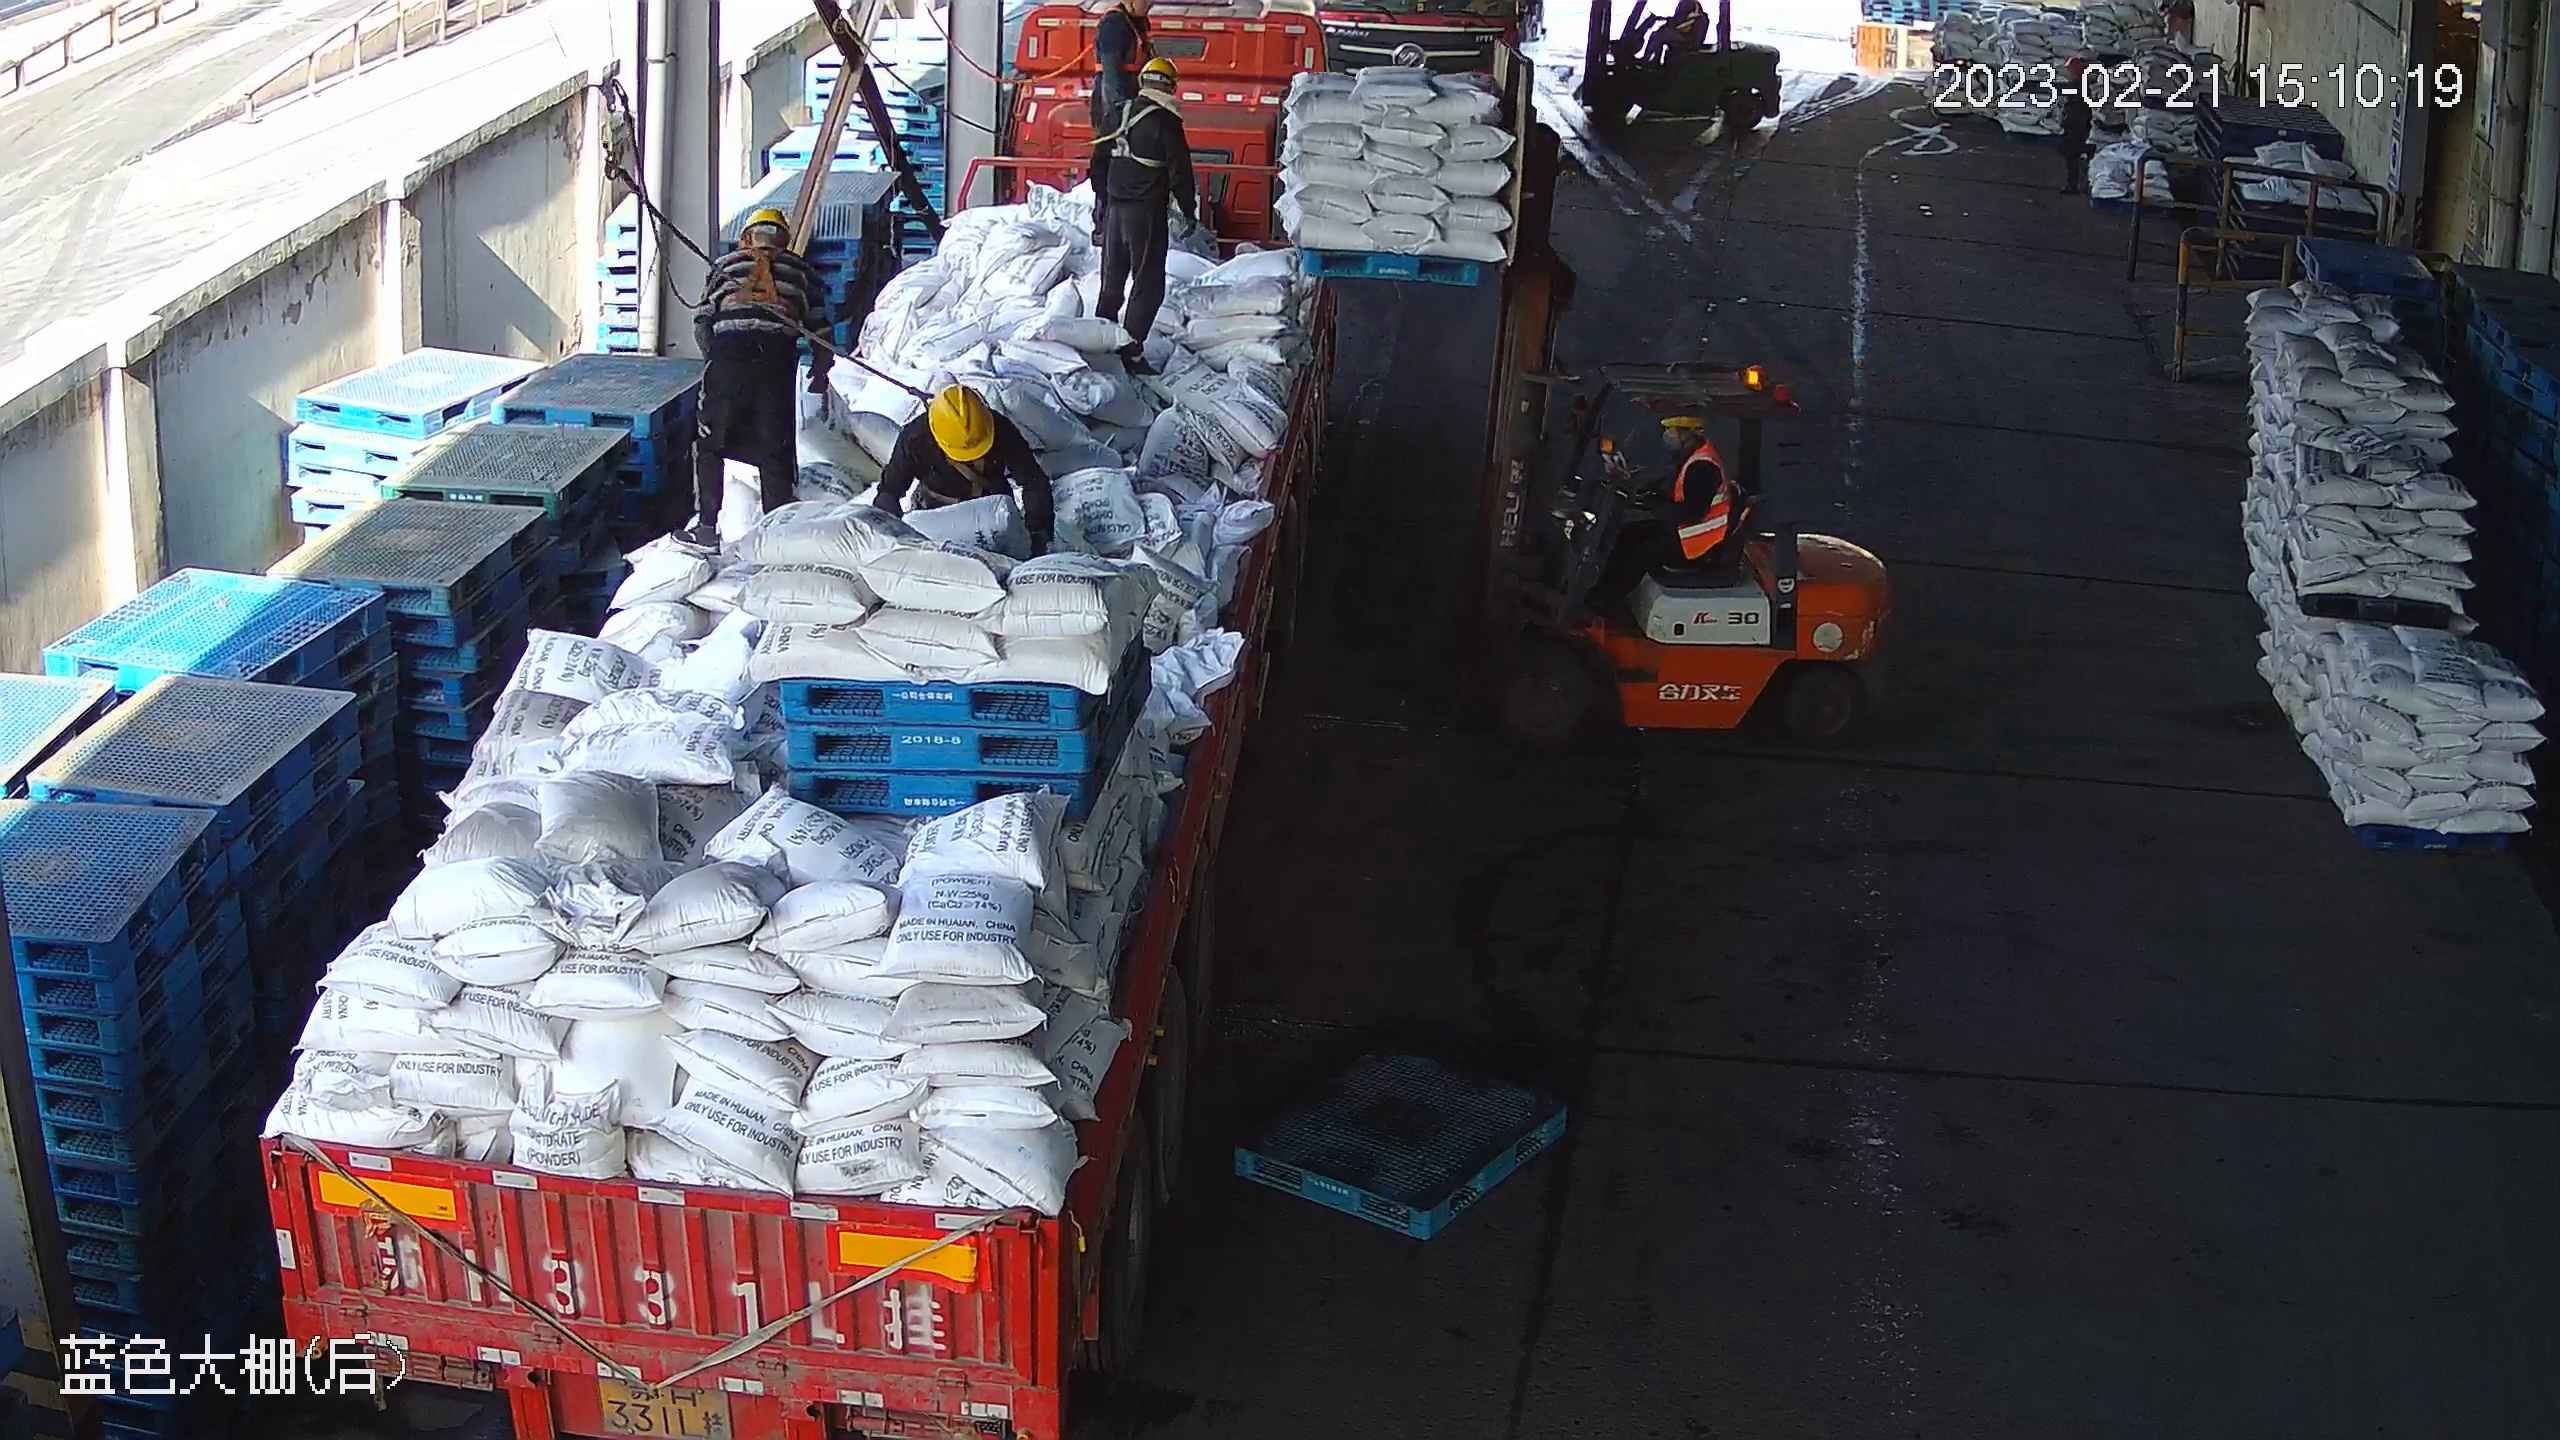belt: (700, 240, 793, 306), (903, 456, 1012, 508), (1105, 103, 1184, 174), (1082, 9, 1152, 75)
head: (893, 383, 1029, 489), (705, 203, 818, 305), (1101, 57, 1184, 145)
helmet: (927, 386, 996, 464), (735, 208, 793, 242), (1139, 57, 1178, 91)
people: (671, 201, 834, 544), (1088, 49, 1196, 378), (1579, 411, 1737, 618)
truck: (252, 8, 1345, 1420)
